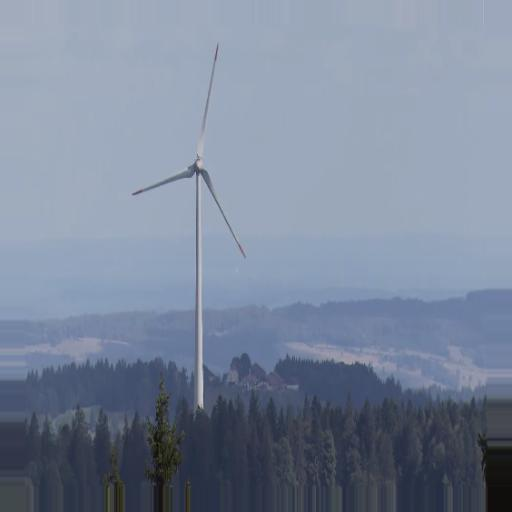wind turbine: (131, 41, 247, 409)
